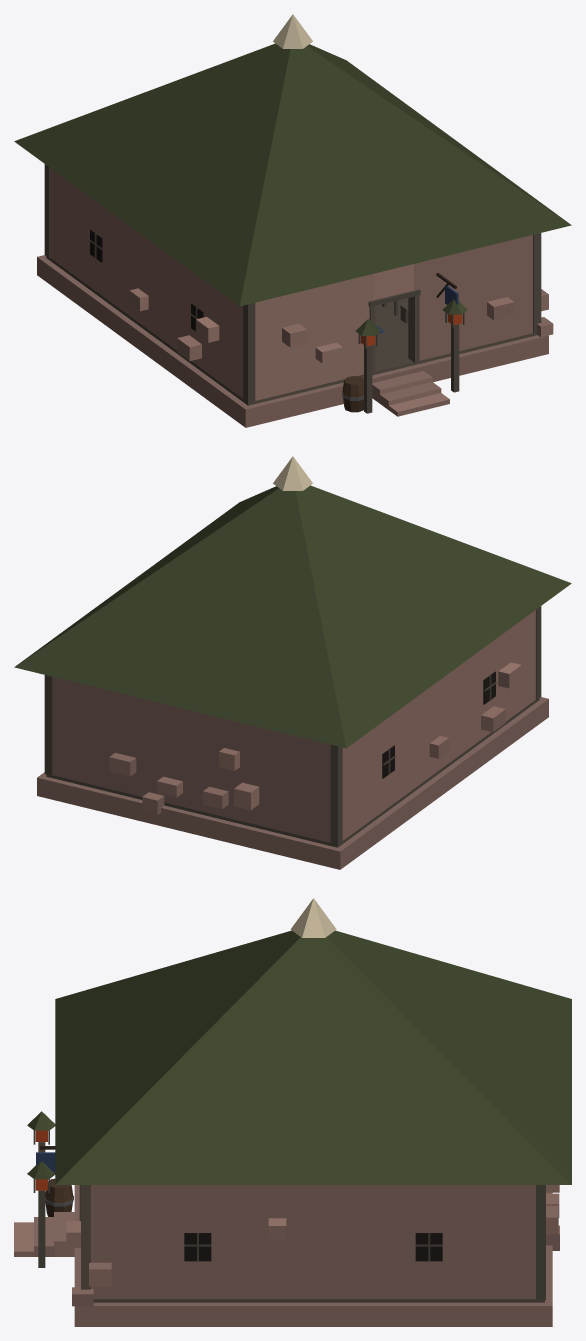
The model's file is walk_reef_tavern.glb.
3 views of the same model, one above another, from view 1: azimuth 30°, elevation 25°; view 2: azimuth 150°, elevation 25°; view 3: azimuth 270°, elevation 25° (orthographic). The views are drawn at different scales.
Parts seen in each view (by area): view 1: walk_reef_tavern_roof, walk_reef_tavern; view 2: walk_reef_tavern_roof, walk_reef_tavern; view 3: walk_reef_tavern_roof, walk_reef_tavern.
Part boxes in pixels (left/top/right/bottom): walk_reef_tavern_roof: left=14, top=14, right=571, bottom=306; walk_reef_tavern: left=37, top=164, right=553, bottom=427; walk_reef_tavern_roof: left=14, top=456, right=571, bottom=748; walk_reef_tavern: left=37, top=606, right=548, bottom=869; walk_reef_tavern_roof: left=55, top=898, right=571, bottom=1184; walk_reef_tavern: left=14, top=1111, right=559, bottom=1326.
Size of what is drawn, in the model's own units: 11.4 by 9.85 by 14.47.
Materials: 2 (2 with a texture image).
